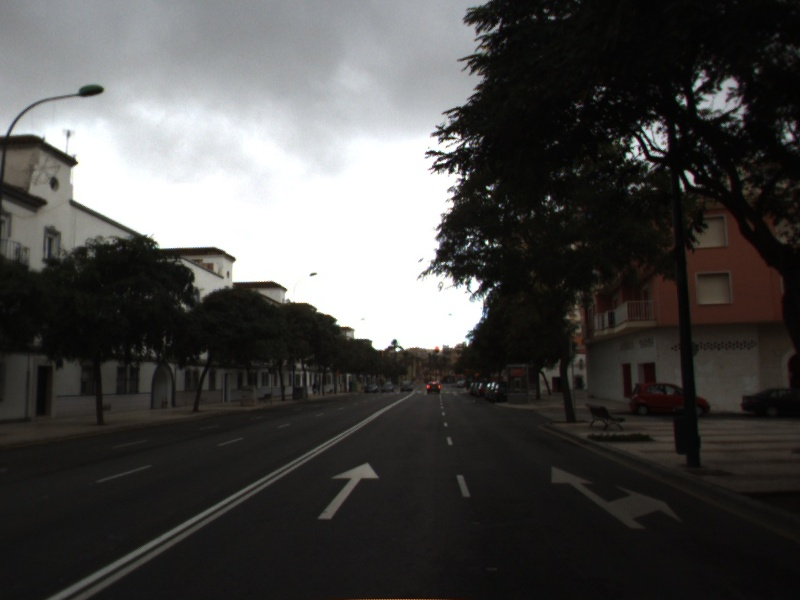STRAIGHT: (317, 461, 381, 520)
STRAIGHT_RIGHT: (549, 464, 684, 530)
